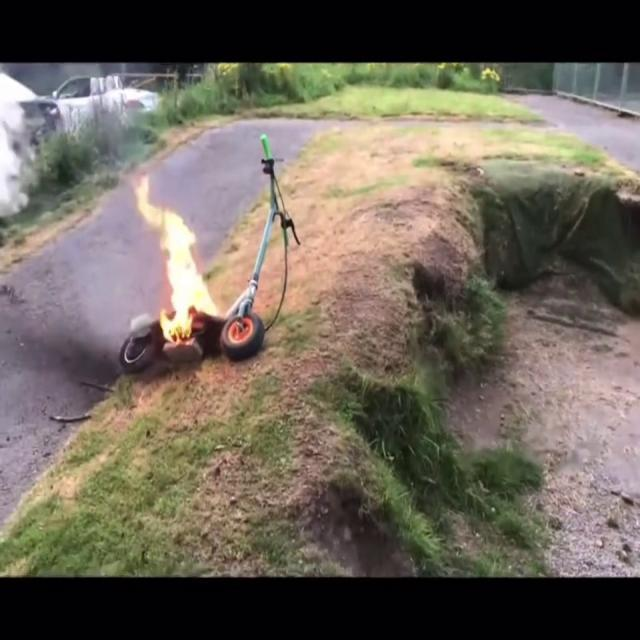Fire: (137, 178, 215, 342)
Smoke: (35, 198, 136, 364)
